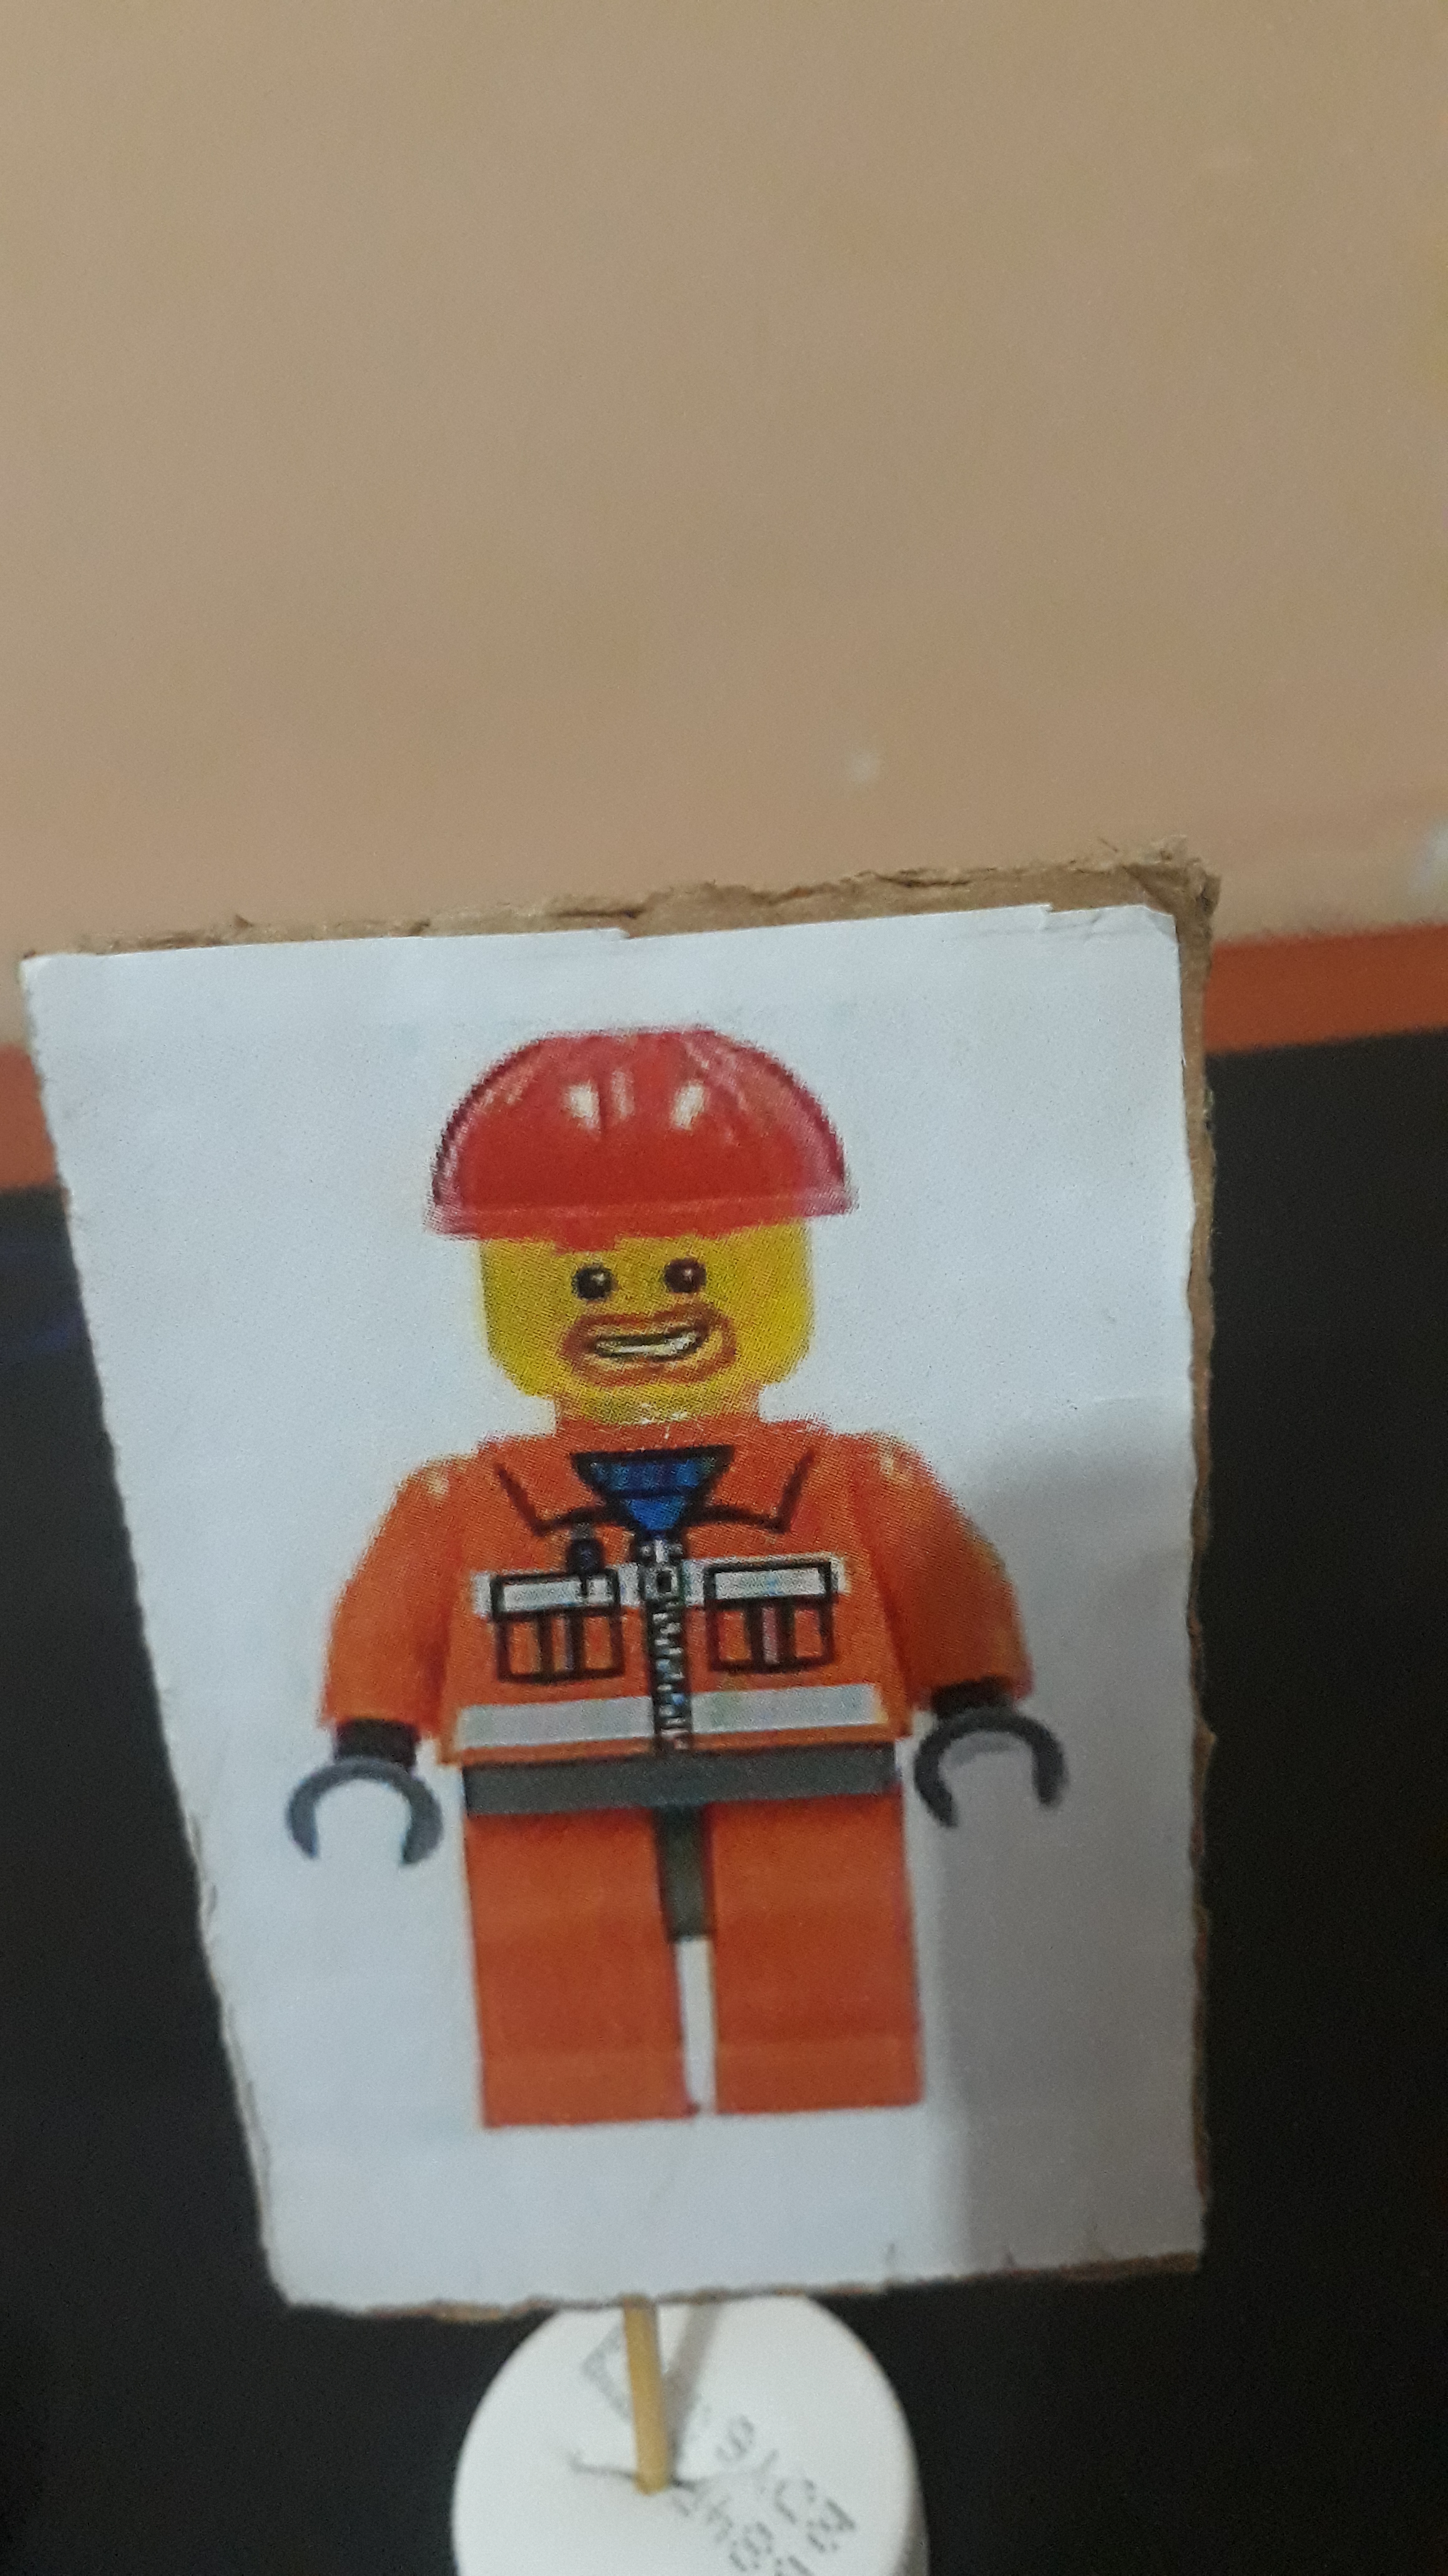pedestrian: (174, 983, 1130, 2173)
